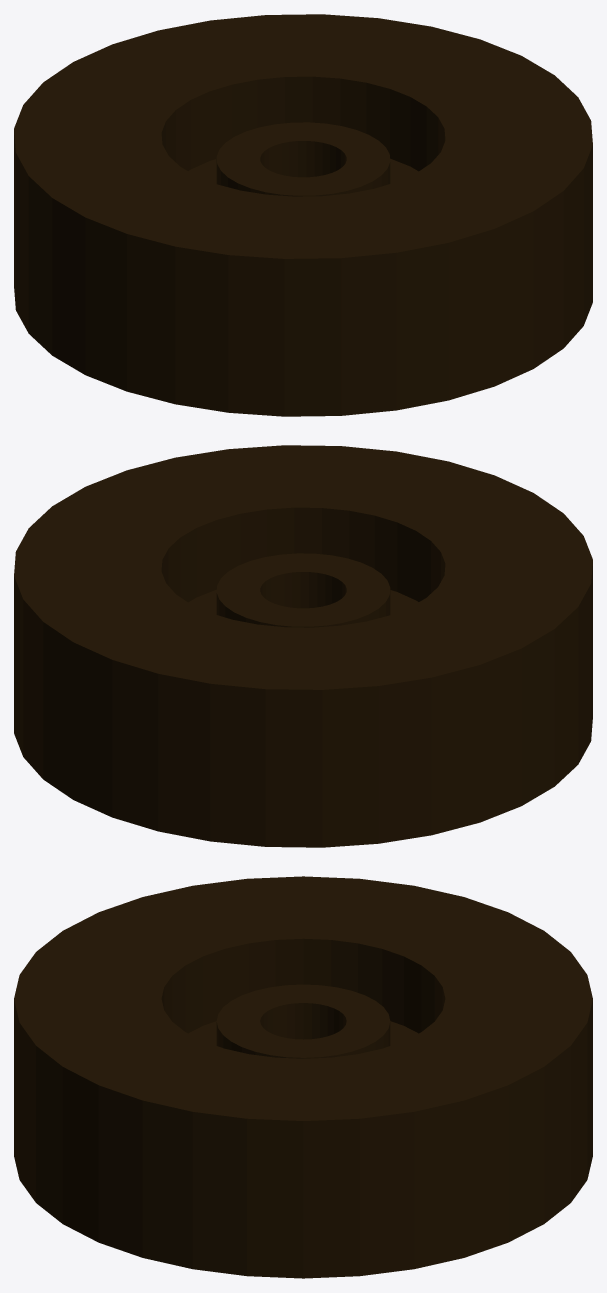
File: newwheel.glb
3 views of the same model, one above another, from view 1: azimuth 30°, elevation 25°; view 2: azimuth 150°, elevation 25°; view 3: azimuth 270°, elevation 25° (orthographic).
Parts seen in each view (by area): view 1: Cylinder; view 2: Cylinder; view 3: Cylinder.
Boxes of the visible parts, x1,y1,x2,y2 form: Cylinder: (14, 14, 592, 416); Cylinder: (14, 445, 592, 847); Cylinder: (14, 876, 592, 1278).
Bounding box in the file's own units: 2 × 0.6 × 2.
